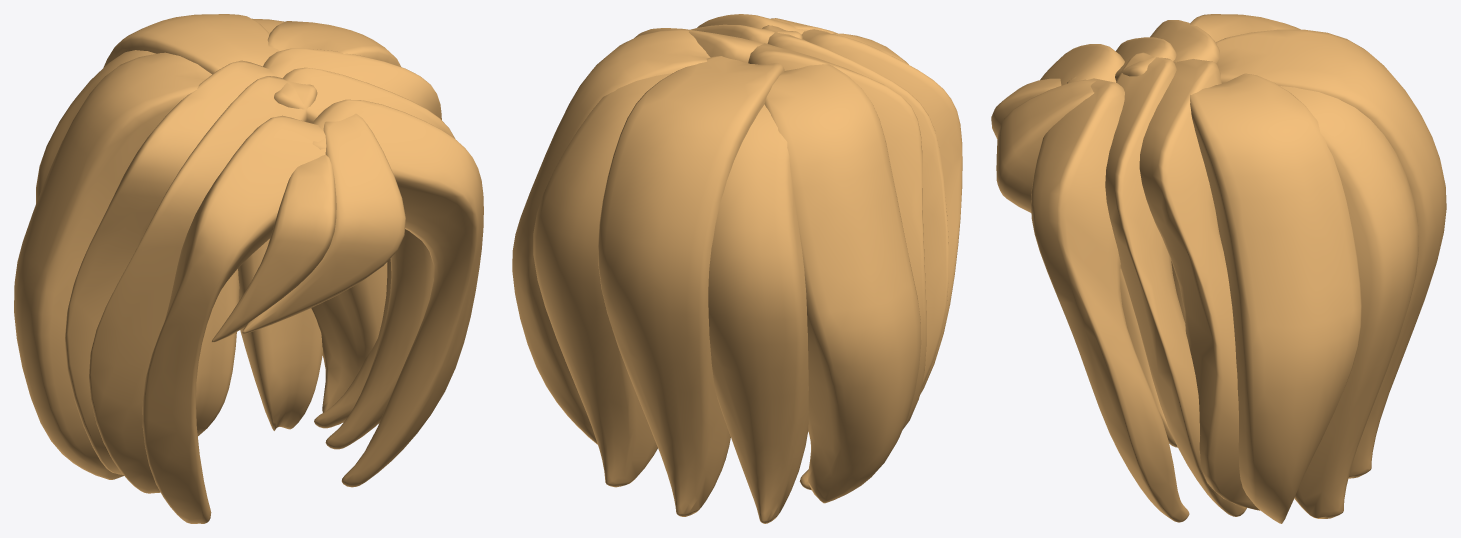
Rendered from hair-004-21a5a6e1.glb.
The picture shows the model from 3 angles, left to right: view 1: azimuth 30°, elevation 25°; view 2: azimuth 150°, elevation 25°; view 3: azimuth 270°, elevation 25°; orthographic projection. The views are drawn at different scales.
Visible parts, largest first — view 1: Geo_Female_White_Hair.011; view 2: Geo_Female_White_Hair.011; view 3: Geo_Female_White_Hair.011.
Part boxes in pixels (box(x1,y1,x2,y2)): Geo_Female_White_Hair.011: box(14, 14, 483, 523); Geo_Female_White_Hair.011: box(512, 14, 962, 523); Geo_Female_White_Hair.011: box(991, 14, 1446, 523).
Bounding box in the file's own units: 2.06 × 2.12 × 2.03.
